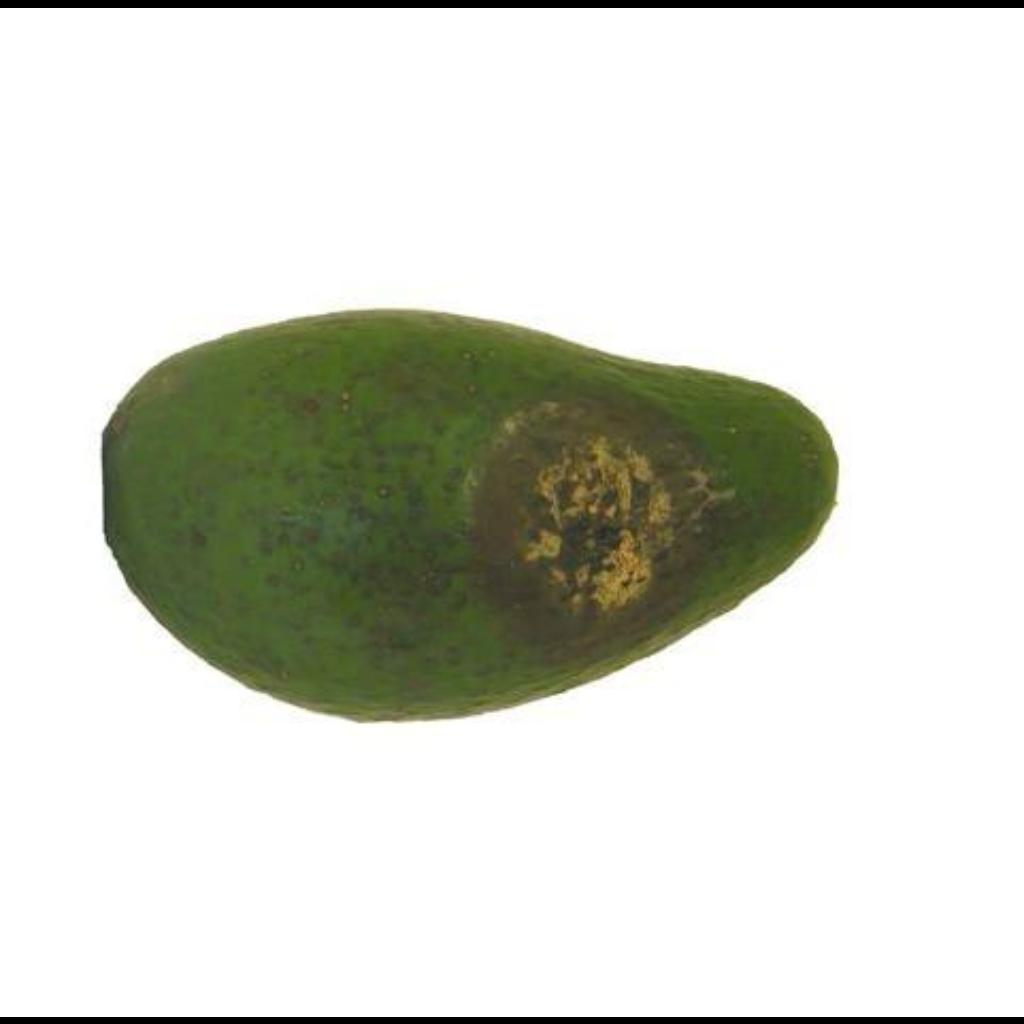Anthracnose: (314, 319, 800, 653)
